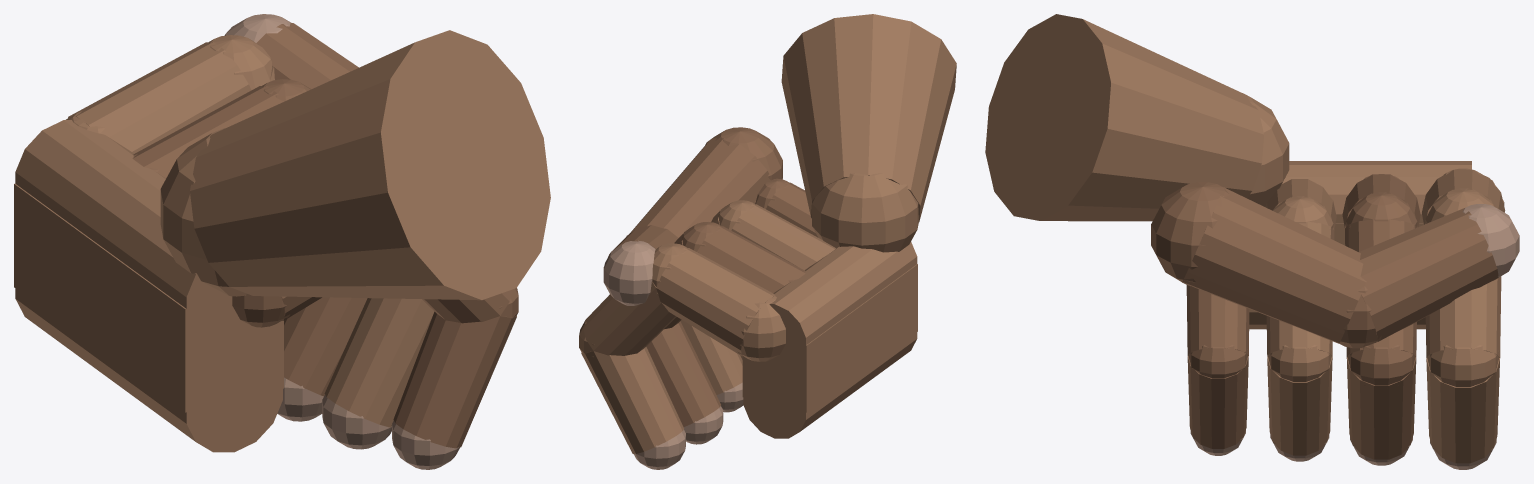
File: hand_grip_left.glb
The picture shows the model from 3 angles, left to right: view 1: azimuth 30°, elevation 25°; view 2: azimuth 150°, elevation 25°; view 3: azimuth 270°, elevation 25°; orthographic projection. The views are drawn at different scales.
Visible parts, largest first — view 1: hand_grip_left; view 2: hand_grip_left; view 3: hand_grip_left.
Part boxes in pixels (x1,y1,x2,y2): hand_grip_left: (14, 14, 550, 469); hand_grip_left: (579, 14, 956, 469); hand_grip_left: (985, 14, 1519, 469).
Bounding box in the file's own units: 0.0726 × 0.104 × 0.121.
